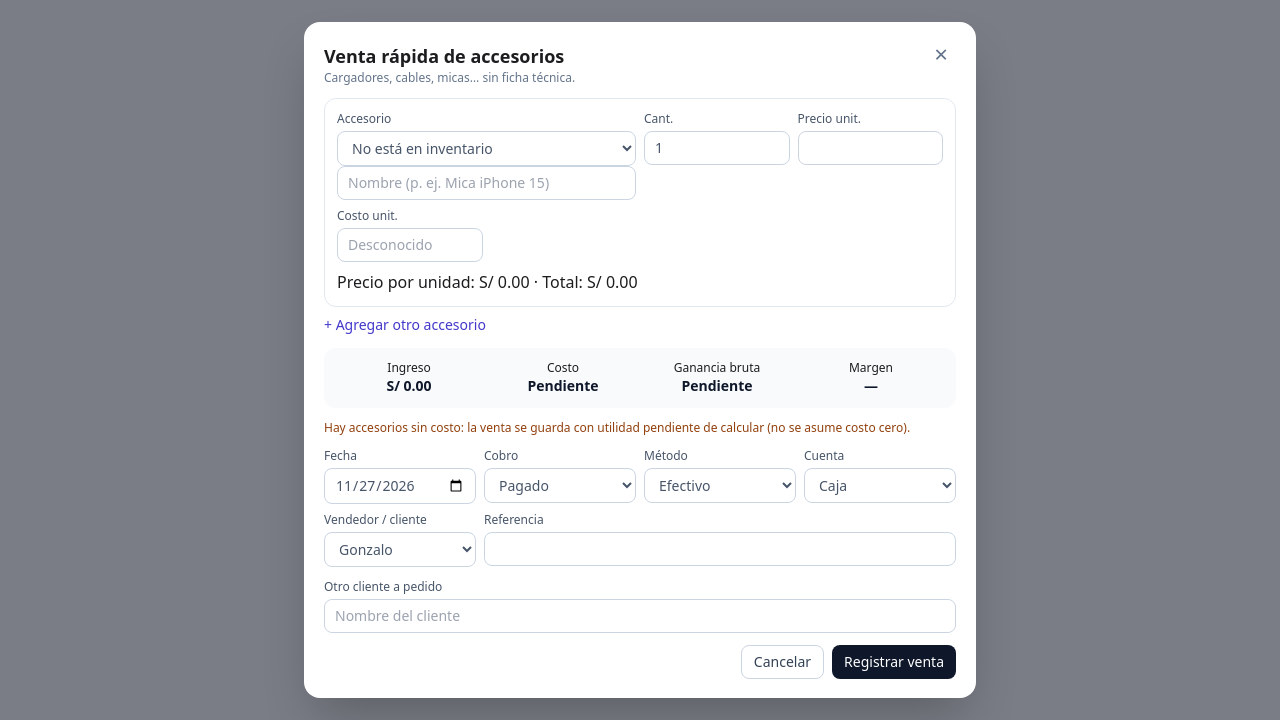
Test: si cambia el stock al confirmar, muestra el error y recotiza
Select "ACC-101 · Cable · Renato · 5 en stock" in the dropdown labelled "Accesorio" at (486, 148), box [337,131,636,166]
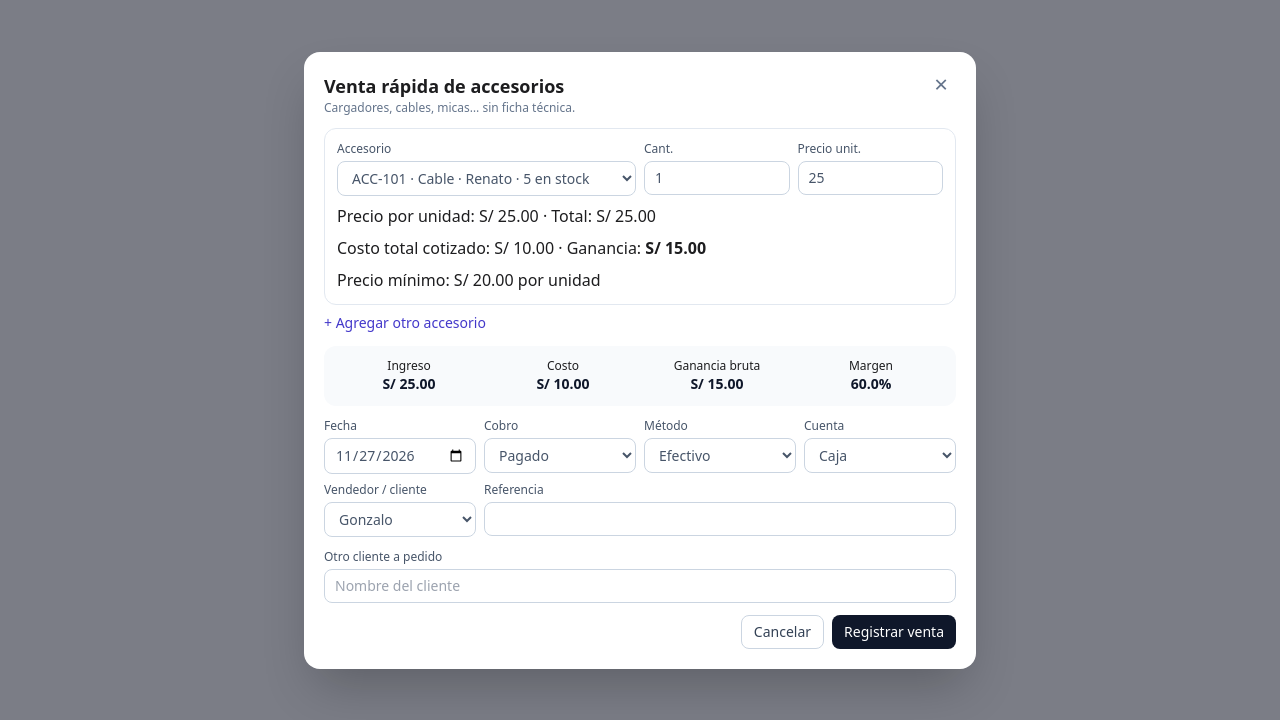
Expected: the text "Costo total cotizado: S/ 10.00 · Ganancia: S/ 15.00" is shown, [337,236,706,258]
Click the button "Registrar venta" at (894, 632), box [832,614,956,648]
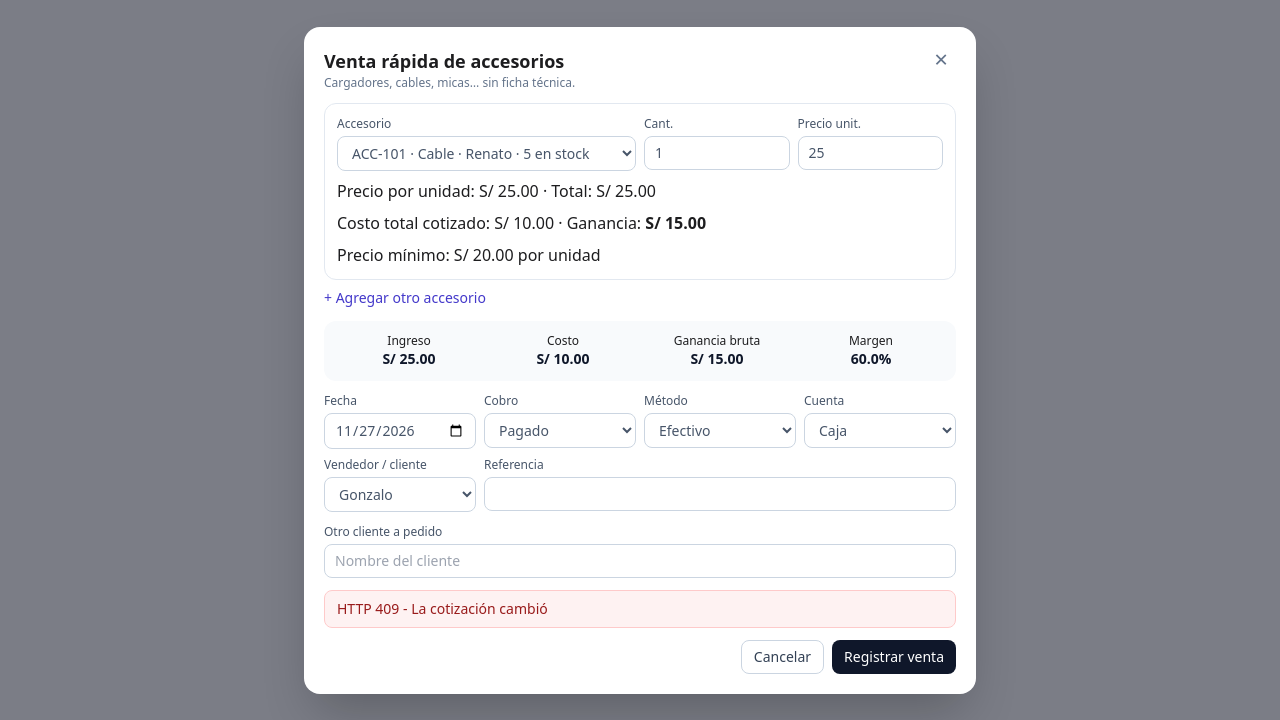
Expected: the text "HTTP 409 - La cotización cambió" is shown, [337,598,548,618]
